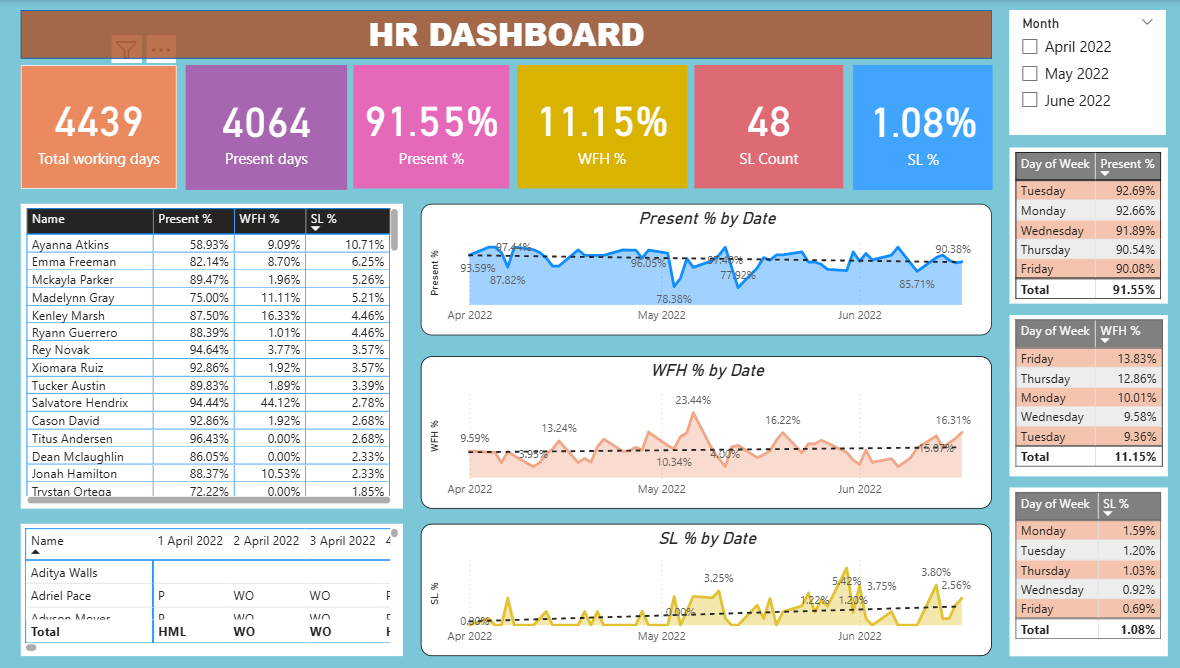

This screenshot's page, from the dashboard's own definition file:
{"tool":"powerbi","page":{"name":"Page 1","canvas":[1280,720],"ordinal":0},"visuals":[{"type":"slicer","fields":{"Values":["Final Data.Month"]},"box":[1089.3,10.8,168.1,134.5],"z":1000},{"type":"tableEx","fields":{"Values":["Final Data.Name","Measure.Present %","Measure.WFH %","Measure.SL %"]},"box":[25.6,219.2,411.5,328.1],"z":2000},{"type":"pivotTable","fields":{"Rows":["Final Data.Name"],"Values":["Final Data.Value"],"Columns":["Final Data.Date"]},"box":[25.6,563.8,411.5,142.6],"z":3000},{"type":"areaChart","fields":{"Category":["Final Data.Date"],"Y":["Measure.WFH %"]},"box":[455.9,383.3,614.6,164.1],"z":4000},{"type":"areaChart","fields":{"Category":["Final Data.Date"],"Y":["Measure.SL %"]},"box":[455.9,563.5,614.6,142.6],"z":5000},{"type":"card","fields":{"Values":["Measure.Present days"]},"box":[203.1,70.3,173.5,134.5],"z":6000},{"type":"card","fields":{"Values":["Measure.Present %"]},"box":[383,70.5,168.1,133.1],"z":7000},{"type":"card","fields":{"Values":["Measure.WFH %"]},"box":[559.4,70.3,182.9,133.1],"z":8000},{"type":"card","fields":{"Values":["Measure.SL Count"]},"box":[750.4,69.9,160,133.1],"z":9000},{"type":"card","fields":{"Values":["Measure.SL %"]},"box":[921.2,69.9,149.3,134.5],"z":10000},{"type":"tableEx","fields":{"Values":["Final Data.Day of Week","Measure.Present %"]},"box":[1088.6,159,170.8,168.1],"z":11000},{"type":"card","fields":{"Values":["Measure.Total working days"]},"box":[25.5,69.9,168.1,133.1],"z":12000},{"type":"areaChart","fields":{"Y":["Measure.Present %"],"Category":["Final Data.Date"]},"box":[455.9,219.2,614.6,141.2],"z":13000},{"type":"tableEx","fields":{"Values":["Final Data.Day of Week","Measure.WFH %"]},"box":[1088.6,339.3,170.8,173.5],"z":14000},{"type":"tableEx","fields":{"Values":["Final Data.Day of Week","Measure.SL %"]},"box":[1088.6,524.8,170.8,181.6],"z":15000},{"type":"shape","box":[25.6,10.8,1044.9,52.4],"z":17000}]}

Visuals, with their boxes in screenshot pixels (x1, y1, x2, y2), scaled from the page's 1280x720 canvas onto the 1180x668 screenshot:
slicer - Final Data.Month: 1004/10/1159/135
tableEx - Final Data.Name x Measure.Present %: 24/203/403/508
pivotTable - Final Data.Name x Final Data.Value: 24/523/403/655
areaChart - Final Data.Date x Measure.WFH %: 420/356/987/508
areaChart - Final Data.Date x Measure.SL %: 420/523/987/655
card - Measure.Present days: 187/65/347/190
card - Measure.Present %: 353/65/508/189
card - Measure.WFH %: 516/65/684/189
card - Measure.SL Count: 692/65/839/188
card - Measure.SL %: 849/65/987/190
tableEx - Final Data.Day of Week x Measure.Present %: 1004/148/1161/303
card - Measure.Total working days: 24/65/178/188
areaChart - Measure.Present % x Final Data.Date: 420/203/987/334
tableEx - Final Data.Day of Week x Measure.WFH %: 1004/315/1161/476
tableEx - Final Data.Day of Week x Measure.SL %: 1004/487/1161/655
shape: 24/10/987/59
